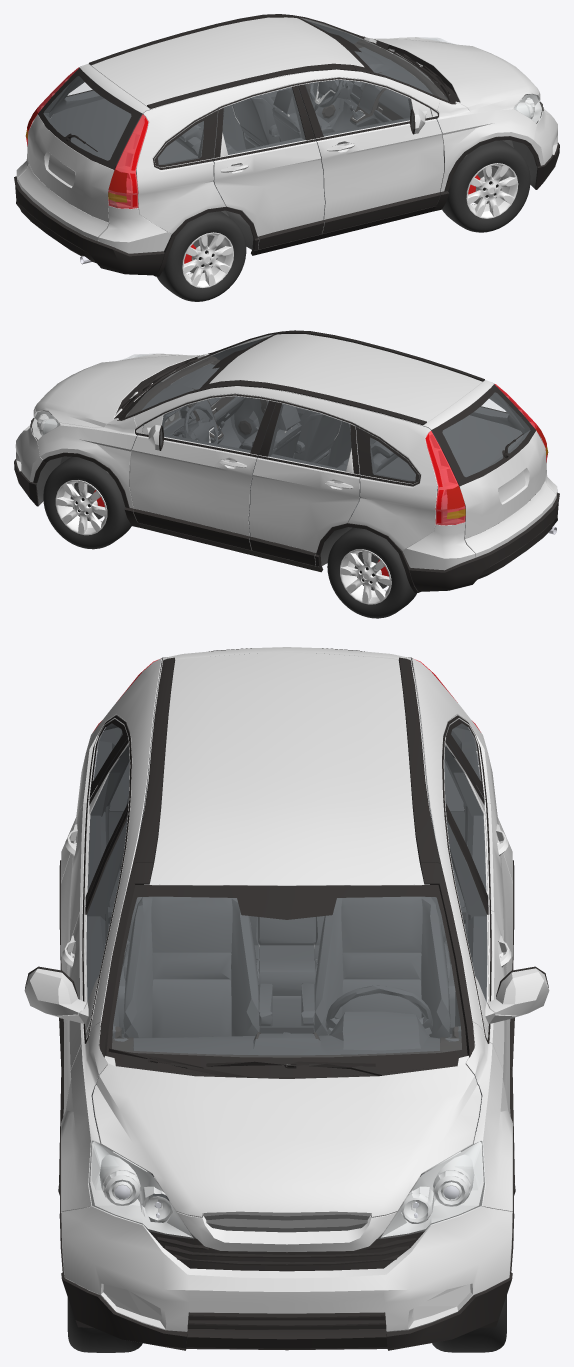
Rendered from SUV22.obj.
3 renders of one model, top to bottom at view 1: azimuth 30°, elevation 25°; view 2: azimuth 150°, elevation 25°; view 3: azimuth 270°, elevation 25°, orthographic. The views are drawn at different scales.
Parts seen in each view (by area): view 1: 22; view 2: 22; view 3: 22.
Boxes of the visible parts, x1,y1,x2,y2 form: 22: (14, 14, 559, 301); 22: (14, 330, 559, 618); 22: (24, 647, 549, 1352).
Bounding box in the file's own units: 4.52 × 1.72 × 2.11.
